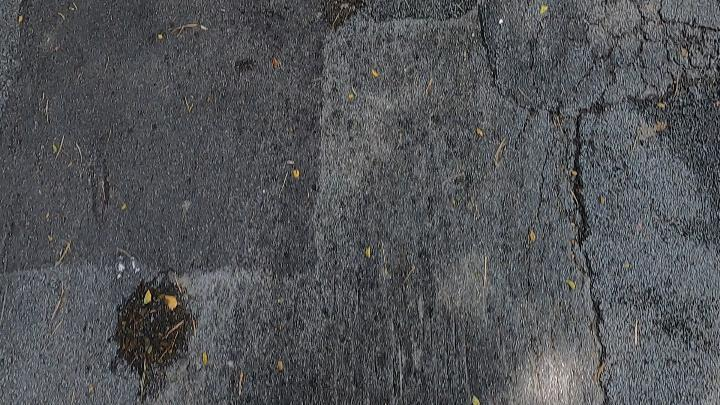Crack: (474, 0, 720, 405), (622, 0, 719, 253), (572, 89, 615, 404), (499, 88, 569, 121), (479, 0, 505, 86), (625, 15, 655, 81), (603, 38, 620, 82)
Pothole: (113, 270, 199, 402), (117, 270, 194, 399)
